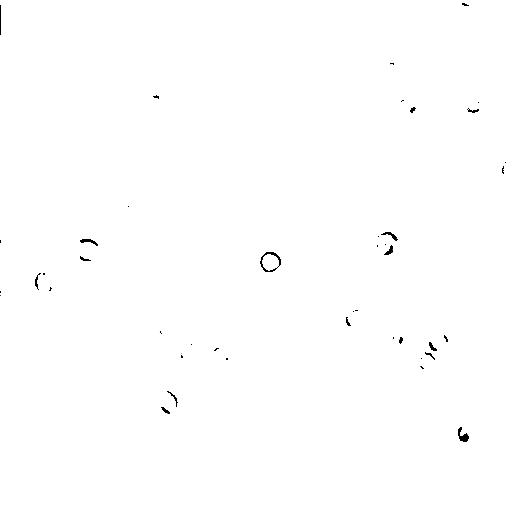micro-algae: (220, 427, 327, 511), (383, 295, 474, 383), (1, 405, 55, 463), (1, 240, 57, 295), (92, 411, 133, 443), (70, 236, 104, 263), (156, 307, 183, 339), (37, 357, 68, 384), (81, 474, 109, 502), (379, 60, 410, 84), (373, 230, 399, 257), (125, 185, 147, 216), (258, 249, 284, 275), (142, 0, 173, 21), (343, 308, 370, 331), (157, 387, 180, 414), (178, 341, 207, 361), (33, 269, 55, 295), (394, 95, 422, 115), (459, 92, 483, 115), (343, 397, 368, 419), (415, 351, 439, 373), (209, 345, 233, 366), (427, 331, 448, 354), (1, 3, 17, 33), (149, 219, 169, 243), (455, 423, 474, 445), (388, 331, 405, 355), (501, 151, 511, 183), (451, 0, 482, 9)
